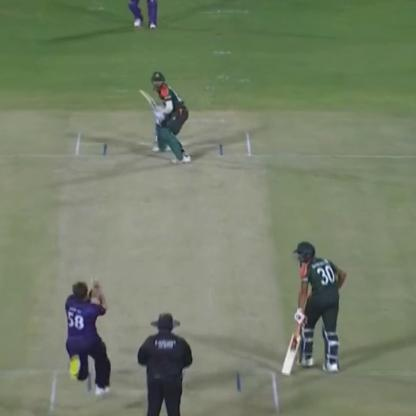ball: (86, 276, 100, 289)
bat: (280, 313, 309, 378), (130, 81, 166, 125)
pitch: (34, 122, 288, 416)
